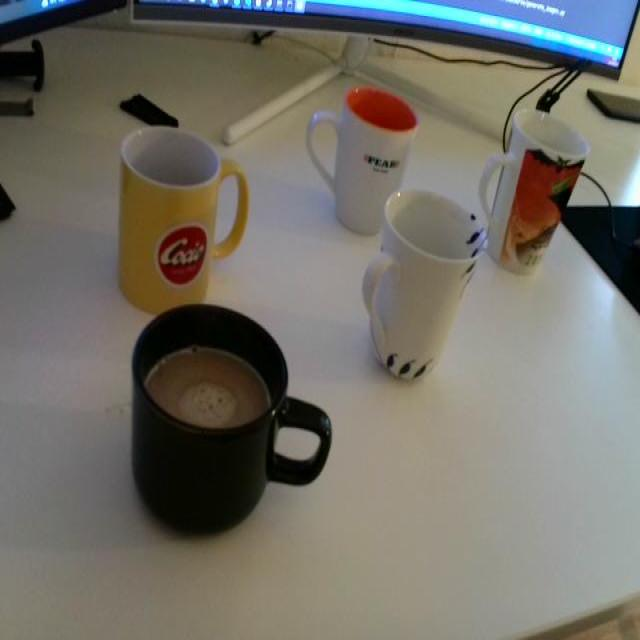cup: (109, 290, 340, 553), (105, 116, 263, 316), (352, 168, 490, 395), (481, 104, 590, 284), (304, 88, 418, 237)
